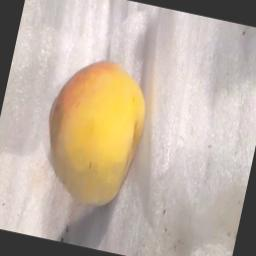Peach Unripe: (19, 39, 170, 216)
